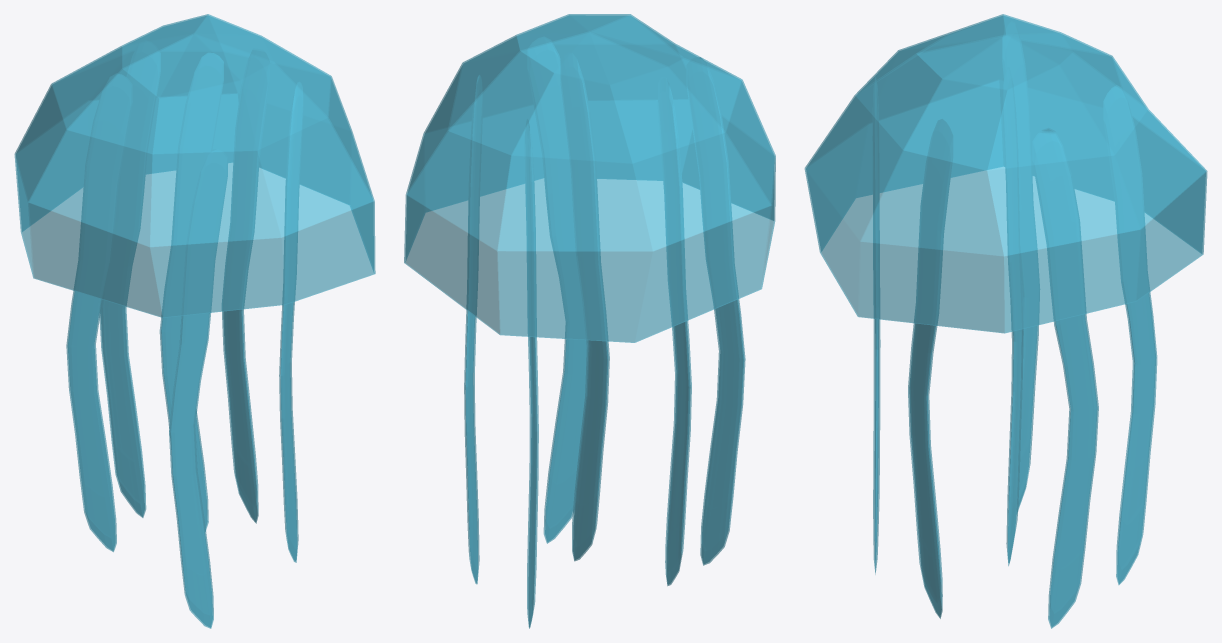
The model's file is Jellyfish.glb.
3 views of the same model, side by side, from view 1: azimuth 30°, elevation 25°; view 2: azimuth 150°, elevation 25°; view 3: azimuth 270°, elevation 25° (orthographic). The views are drawn at different scales.
Parts seen in each view (by area): view 1: Plane; view 2: Plane; view 3: Plane.
Part boxes in pixels (bbox=[...]): Plane: bbox=[14, 14, 375, 628]; Plane: bbox=[404, 14, 775, 628]; Plane: bbox=[804, 14, 1207, 628].
Size of the model in its own units: 2.01 by 3.17 by 2.05.
